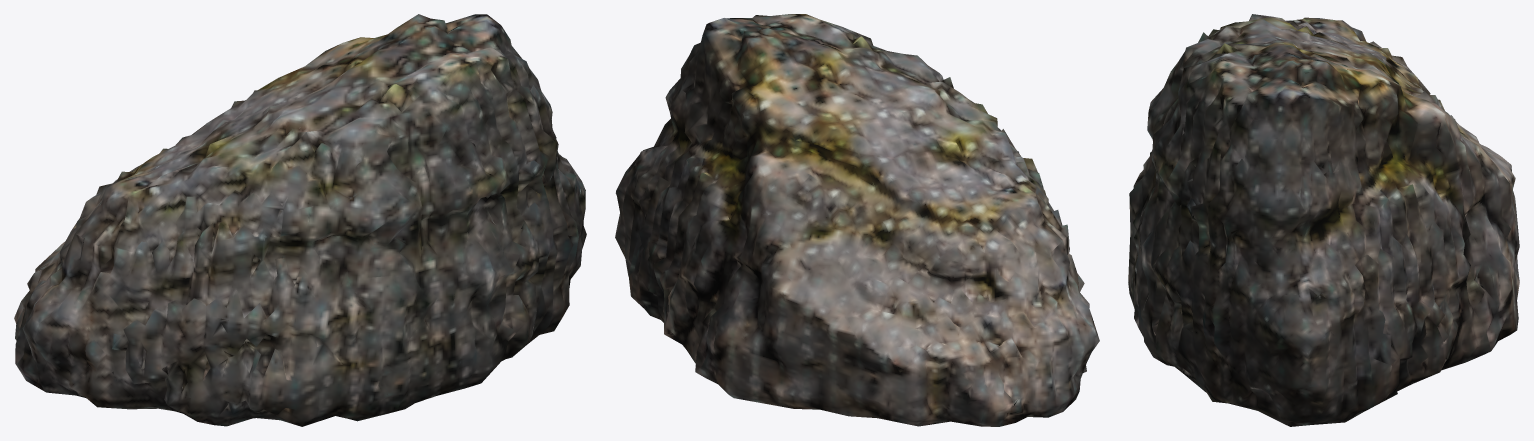
The model's file is runtime.glb.
The picture shows the model from 3 angles, left to right: view 1: azimuth 30°, elevation 25°; view 2: azimuth 150°, elevation 25°; view 3: azimuth 270°, elevation 25°; orthographic projection. The views are drawn at different scales.
Parts seen in each view (by area): view 1: Forge_rock_slate; view 2: Forge_rock_slate; view 3: Forge_rock_slate.
Part boxes in pixels (x1,y1,x2,y2): Forge_rock_slate: (14,14,586,426); Forge_rock_slate: (615,14,1099,426); Forge_rock_slate: (1128,14,1519,426).
Bounding box in the file's own units: 2.76 × 1.57 × 1.72.
Materials: 1 (1 with a texture image).
